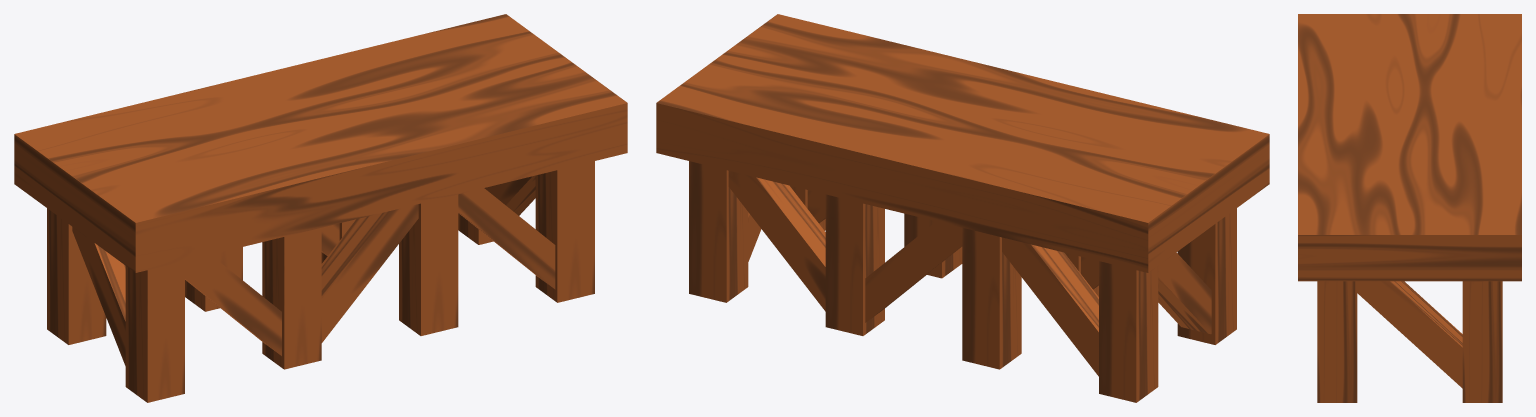
Rendered from WoodenStand.fbx.
3 views of the same model, side by side, from view 1: azimuth 30°, elevation 25°; view 2: azimuth 150°, elevation 25°; view 3: azimuth 270°, elevation 25° (orthographic). The views are drawn at different scales.
Visible parts, largest first — view 1: WoodenStand, WoodenBeam.001, WoodenBeam.003, WoodenBeam.002, WoodenBeam.004, WoodenSupportBeam.002, WoodenBeam.005, WoodenSupportBeam.003, WoodenSupportBeam.001, WoodenSupportBeam.007, WoodenSupportBeam.008, WoodenBeam.006; view 2: WoodenStand, WoodenBeam.005, WoodenBeam.006, WoodenBeam.008, WoodenBeam.007, WoodenSupportBeam.006, WoodenSupportBeam.004, WoodenBeam.001, WoodenSupportBeam.005, WoodenSupportBeam.007, WoodenBeam.003; view 3: WoodenStand, WoodenBeam.004, WoodenBeam.008, WoodenSupportBeam.008.
Part boxes in pixels (<box>): WoodenStand: <box>14,14,627,272</box>; WoodenBeam.001: <box>125,261,184,402</box>; WoodenBeam.003: <box>399,194,458,335</box>; WoodenBeam.002: <box>262,228,321,369</box>; WoodenBeam.004: <box>535,161,594,302</box>; WoodenSupportBeam.002: <box>321,204,418,342</box>; WoodenBeam.005: <box>47,208,106,344</box>; WoodenSupportBeam.003: <box>458,188,555,289</box>; WoodenSupportBeam.001: <box>185,255,281,355</box>; WoodenSupportBeam.007: <box>72,227,125,365</box>; WoodenSupportBeam.008: <box>484,175,535,215</box>; WoodenBeam.006: <box>185,247,242,311</box>; WoodenStand: <box>656,14,1269,272</box>; WoodenBeam.005: <box>1099,261,1158,402</box>; WoodenBeam.006: <box>962,228,1021,369</box>; WoodenBeam.008: <box>689,161,748,302</box>; WoodenBeam.007: <box>825,194,884,335</box>; WoodenSupportBeam.006: <box>728,171,825,311</box>; WoodenSupportBeam.004: <box>1002,237,1098,376</box>; WoodenBeam.001: <box>1177,208,1236,344</box>; WoodenSupportBeam.005: <box>865,221,962,322</box>; WoodenSupportBeam.007: <box>1158,252,1211,334</box>; WoodenBeam.003: <box>904,213,962,278</box>; WoodenStand: <box>1298,14,1521,281</box>; WoodenBeam.004: <box>1317,281,1357,402</box>; WoodenBeam.008: <box>1462,281,1502,402</box>; WoodenSupportBeam.008: <box>1357,281,1462,388</box>.
Bounding box in the file's own units: 360 × 135 × 154.
